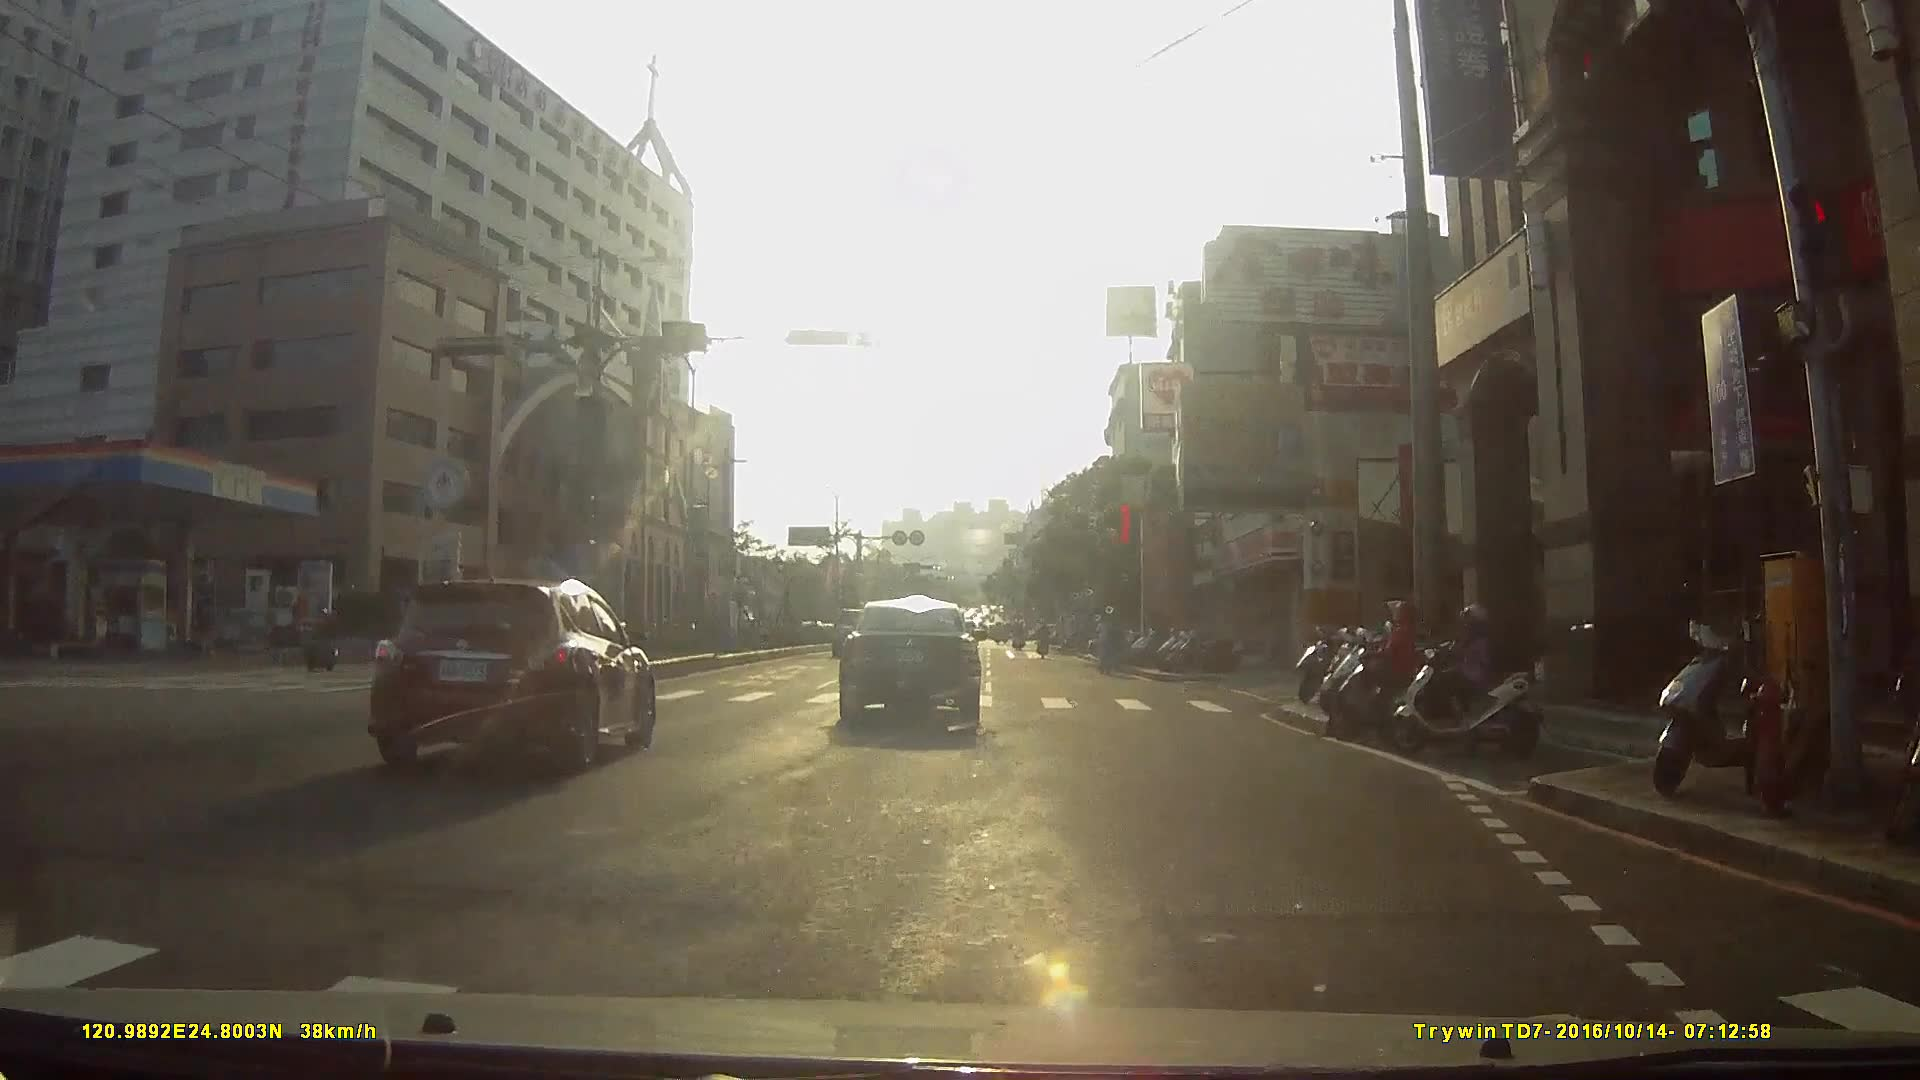rider: (1383, 599, 1549, 765), (1323, 600, 1452, 741), (303, 606, 347, 673), (1094, 613, 1122, 678)
vehicle: (369, 581, 666, 790), (844, 608, 1000, 745), (352, 597, 533, 693), (763, 607, 822, 662)
